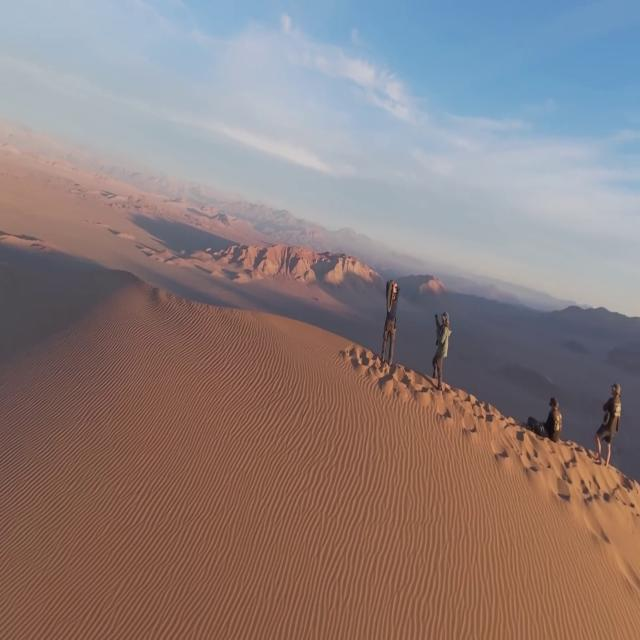Tire: (386, 280, 396, 312)
